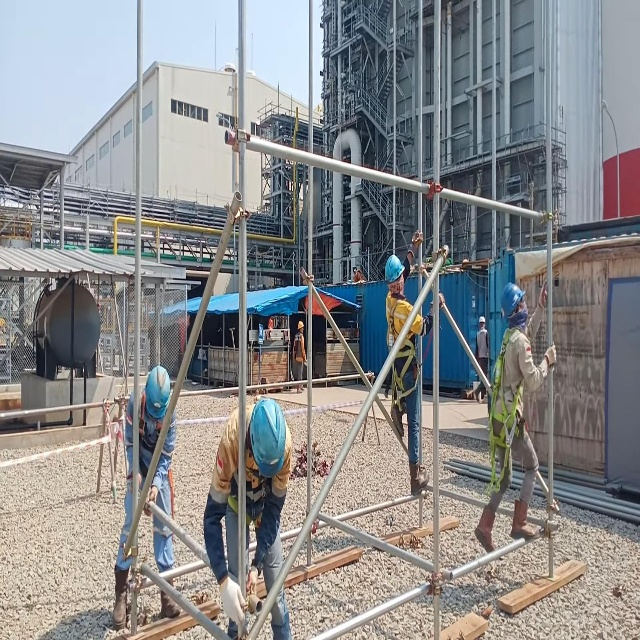Arnes_seguridad: (484, 323, 529, 495), (130, 390, 175, 503), (221, 428, 270, 529), (384, 290, 418, 418)
